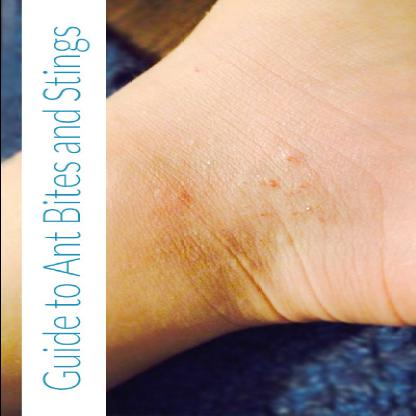Fire ant: (234, 293, 415, 323), (220, 260, 342, 292), (379, 236, 415, 290)
